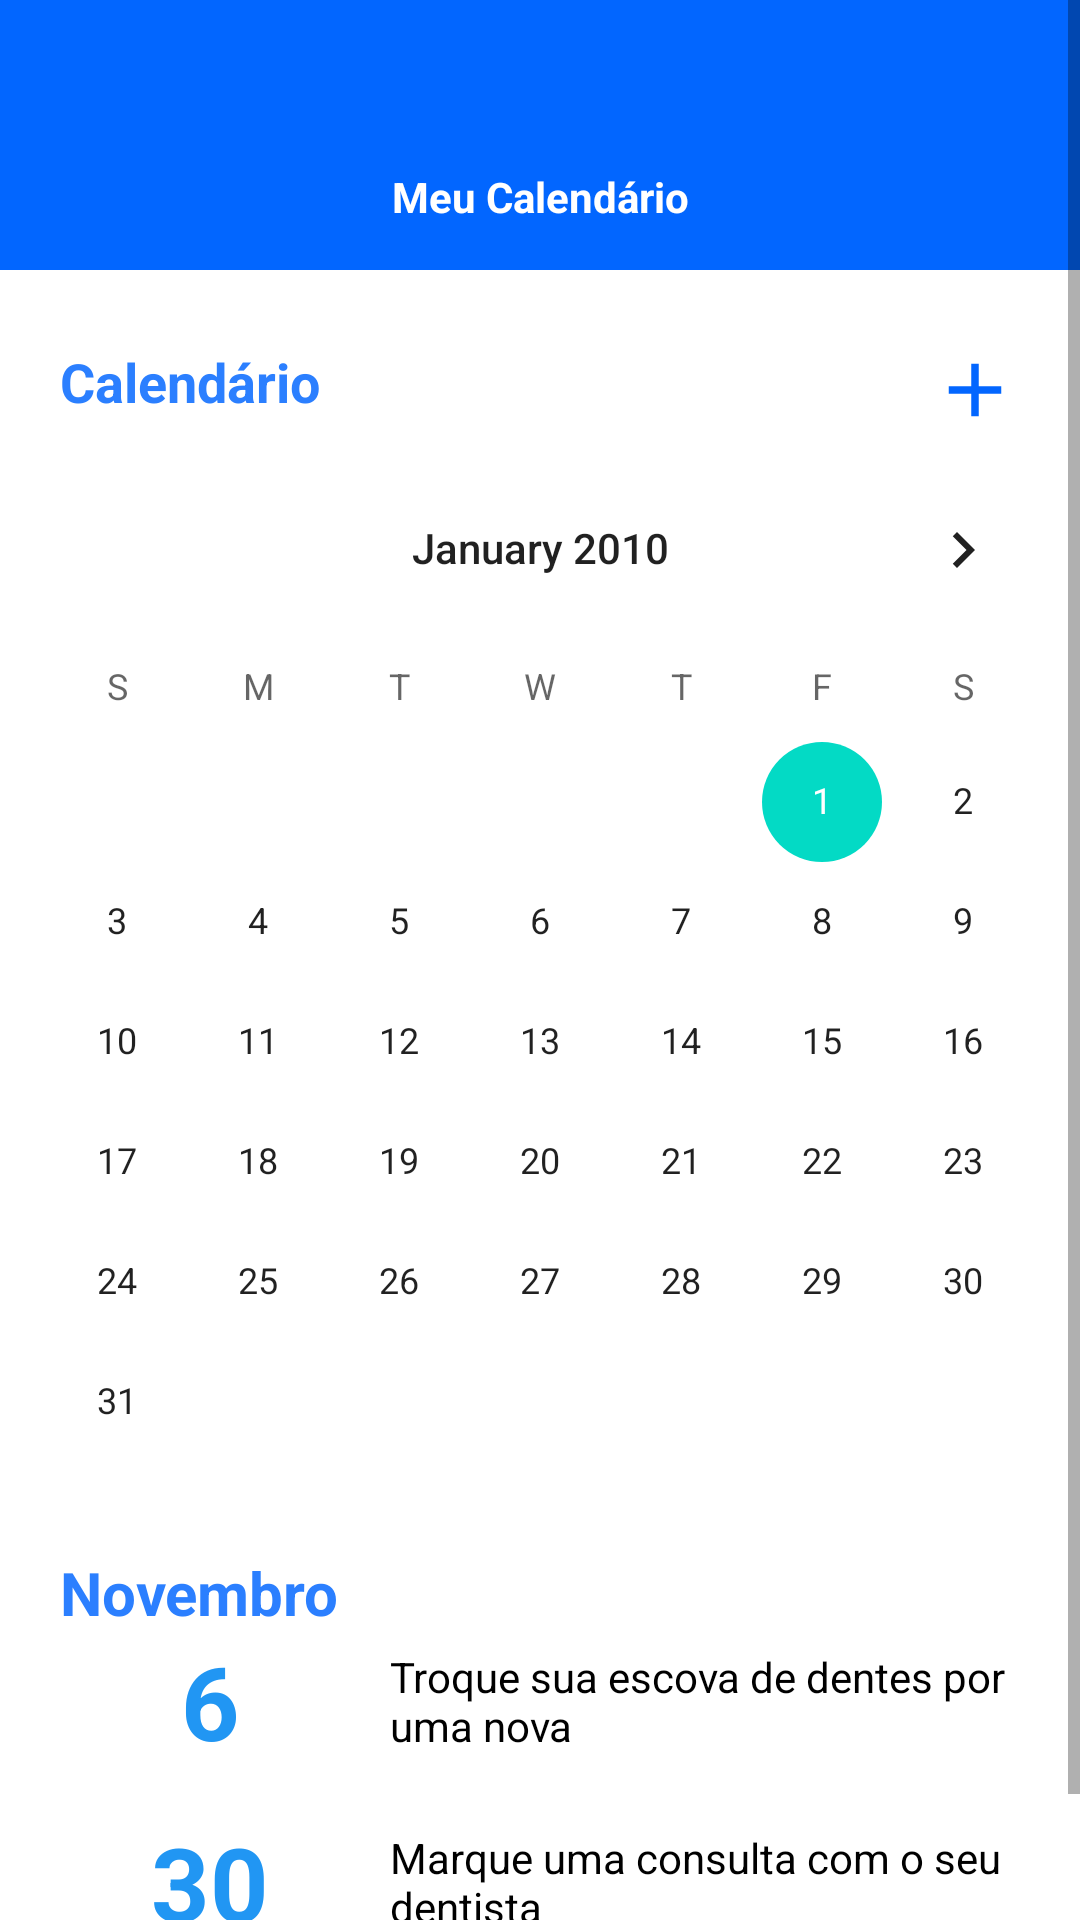

Locate icon controls on the screen. Image size 1080 × 1920, boxes as bbox=(x1, y1, x2, y2).
add: bbox=(948, 363, 1002, 417)
